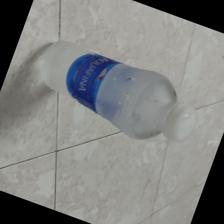Aquafina: (37, 40, 196, 139)
